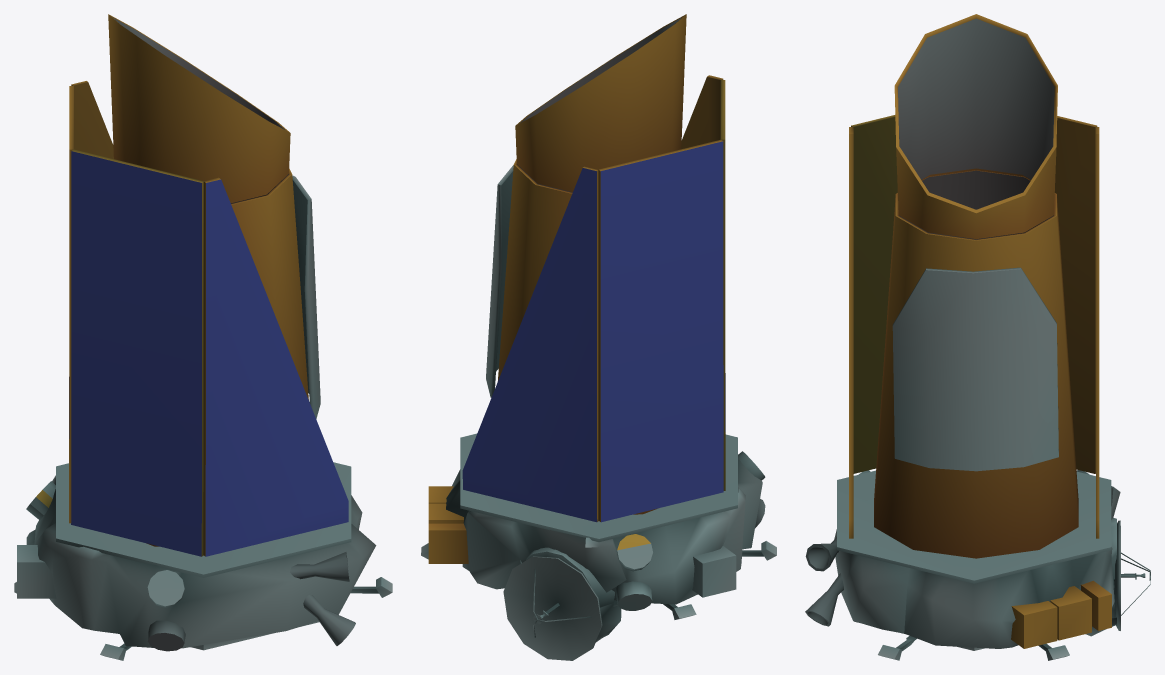
Rendered from space-satellites-space-telescope_v1.glb.
3 renders of one model, left to right at view 1: azimuth 30°, elevation 25°; view 2: azimuth 150°, elevation 25°; view 3: azimuth 270°, elevation 25°, orthographic. The views are drawn at different scales.
Parts seen in each view (by area): view 1: Space Telescope.001, Space Telescope; view 2: Space Telescope.001, Space Telescope; view 3: Space Telescope.001, Space Telescope.
Part boxes in pixels (<box>): Space Telescope.001: <box>69,14,348,556</box>; Space Telescope: <box>14,175,392,660</box>; Space Telescope.001: <box>428,14,725,563</box>; Space Telescope: <box>421,165,776,660</box>; Space Telescope.001: <box>849,14,1111,648</box>; Space Telescope: <box>805,267,1150,660</box>.
Bounding box in the file's own units: 2.65 × 5 × 2.66.
